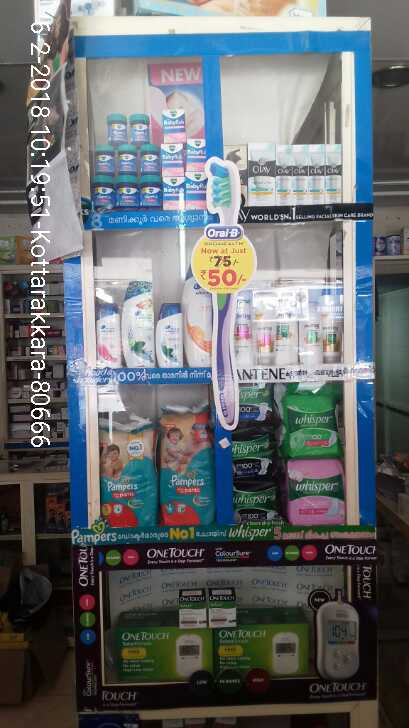vicks: (95, 104, 207, 210)
